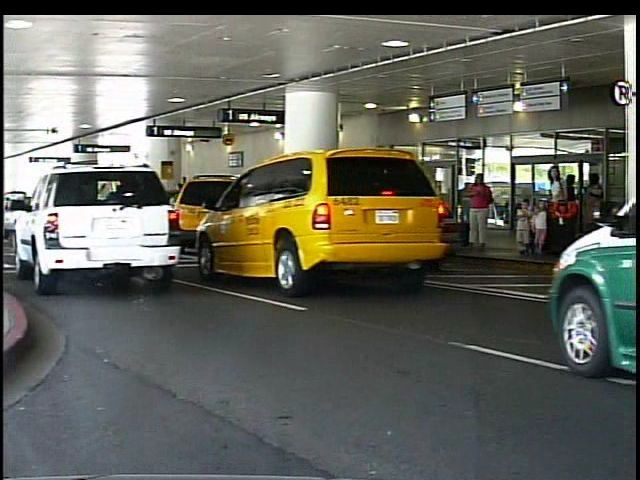person: (468, 170, 496, 256), (547, 164, 572, 259), (586, 172, 610, 240), (564, 173, 584, 243), (519, 198, 539, 254), (535, 201, 552, 255)
